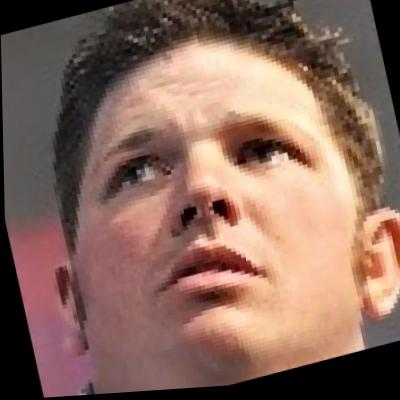sad: (58, 17, 372, 397)
